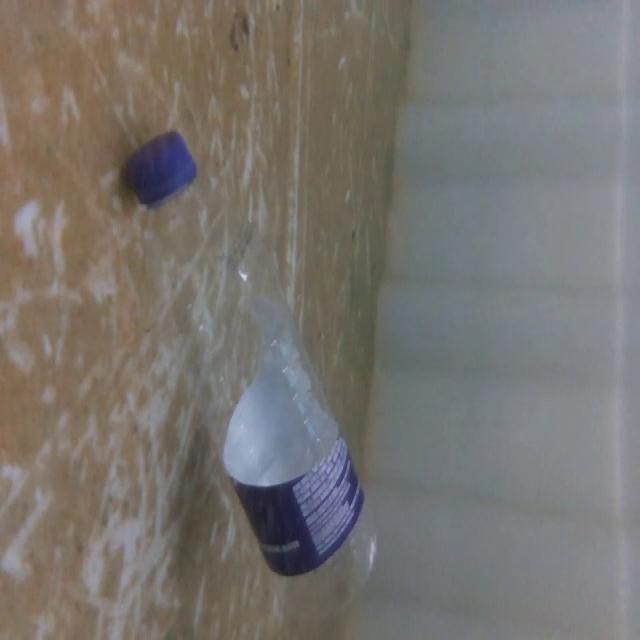plastic bottle: (116, 118, 384, 622)
